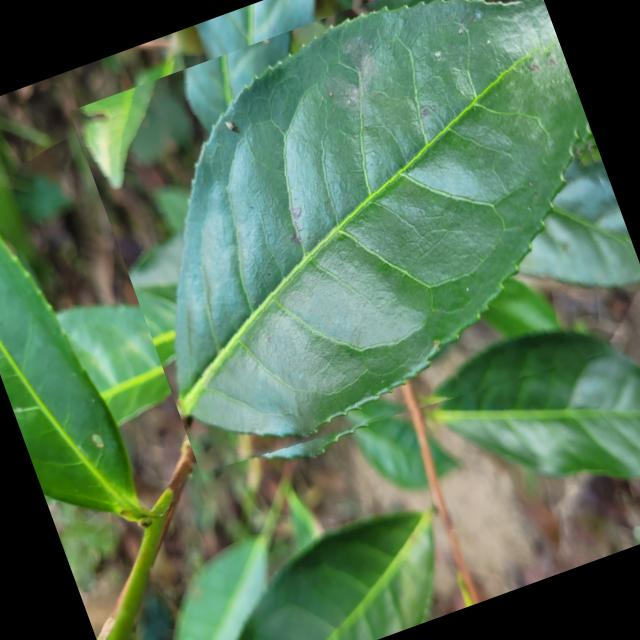Category D(7+ days, Not for Tea): (68, 0, 640, 500)
